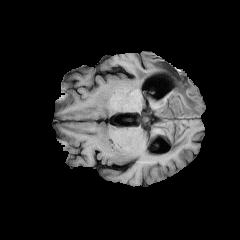glioma: (128, 62, 199, 153)
